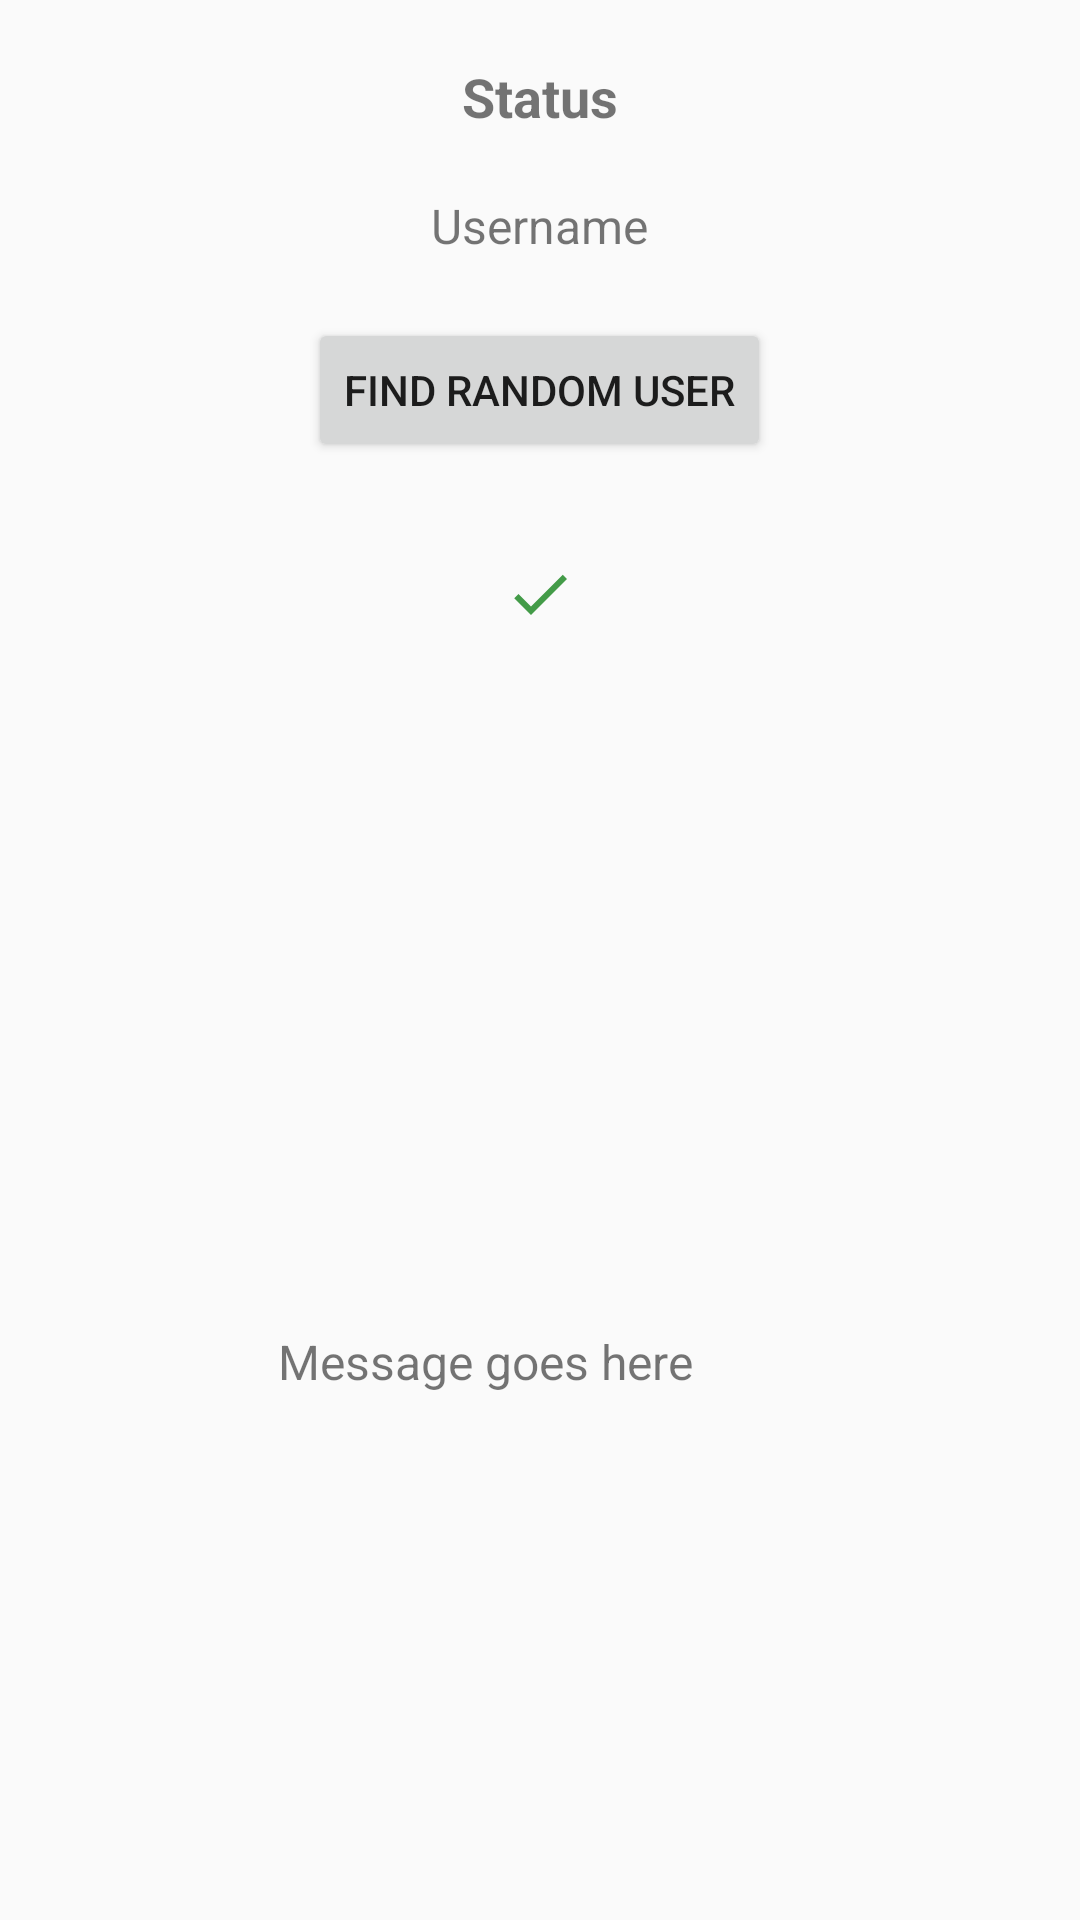

Icon click points for this 1080×1920 phone screenshot, format point (x, y):
check: point (540, 595)
